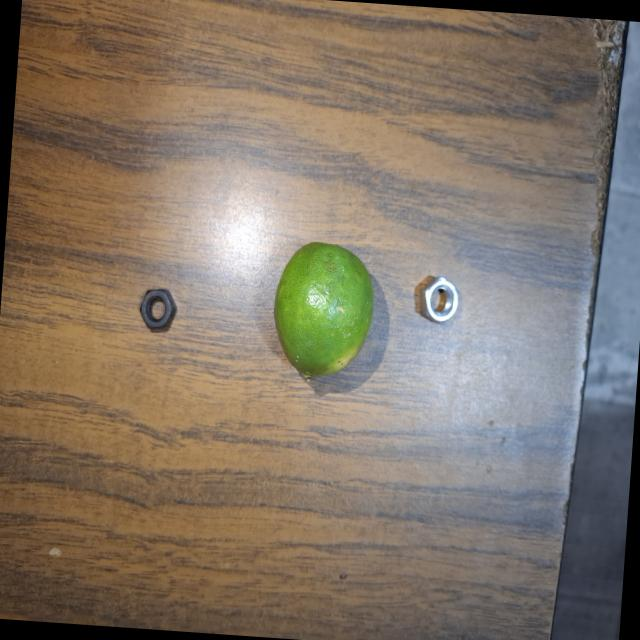limon: (266, 232, 382, 386)
milimetrico: (126, 280, 188, 350)
tuerca: (414, 269, 466, 332)
